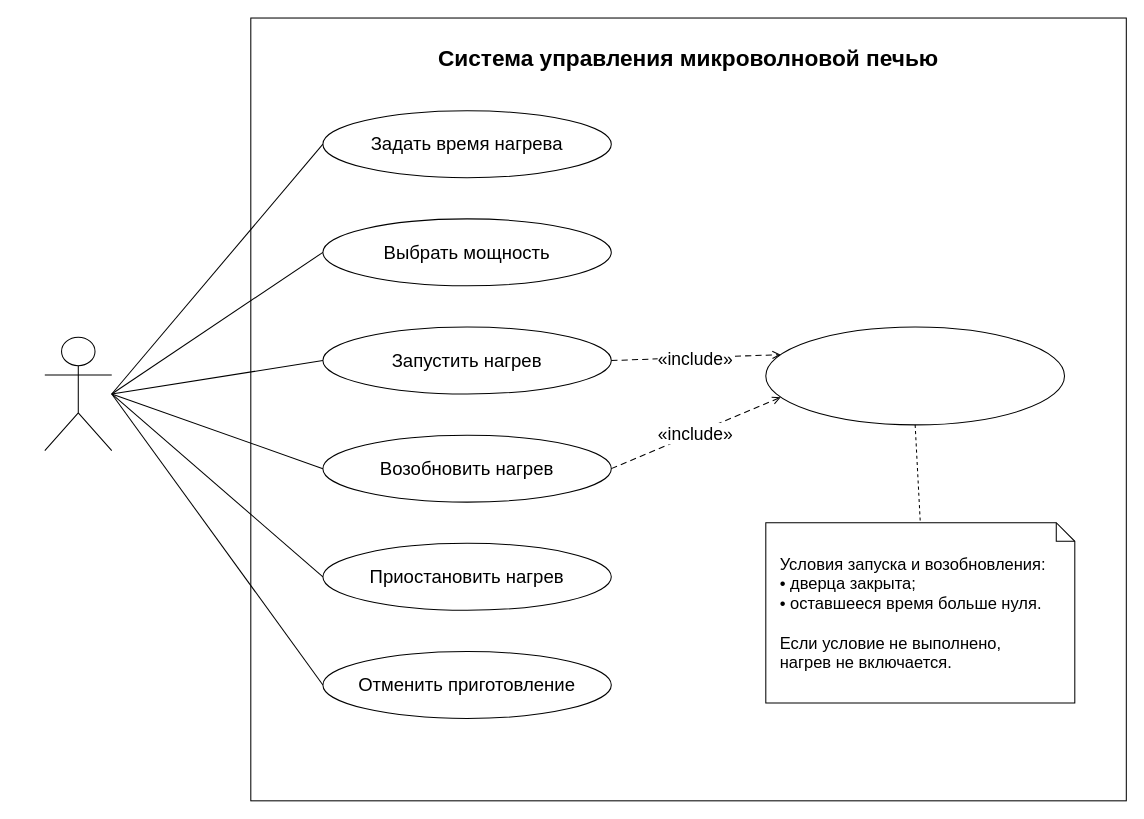
Image size: 1144x819. Some labels were removed from this diagram. Here are the shapes that lost their labels. From the top down, the box of each, then its label:
(44, 336, 112, 451): Пользователь
(765, 326, 1065, 425): Проверить возможность нагрева
